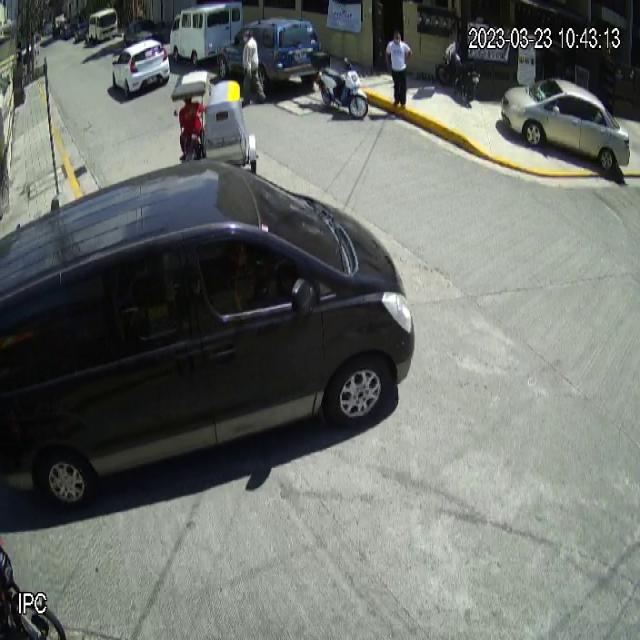Car: (501, 78, 630, 171), (216, 16, 323, 96), (112, 37, 170, 100)
Motorcycle: (312, 54, 368, 120)
Tricycle: (171, 66, 259, 174)
Van: (0, 158, 415, 512), (169, 0, 242, 69)
